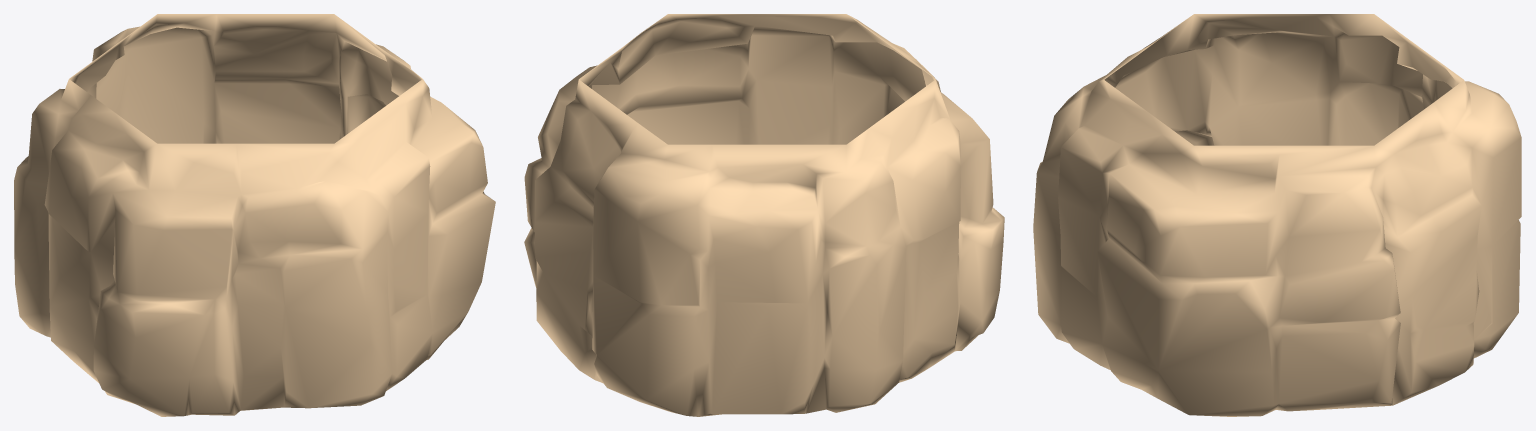
File: mesh_HexTerrain_Top_NoSurface.fbx
3 views of the same model, side by side, from view 1: azimuth 30°, elevation 25°; view 2: azimuth 150°, elevation 25°; view 3: azimuth 270°, elevation 25° (orthographic).
Visible parts, largest first — view 1: HexTerrain_Top_NoSurface_LOD0; view 2: HexTerrain_Top_NoSurface_LOD0; view 3: HexTerrain_Top_NoSurface_LOD0.
Boxes of the visible parts, left/top/right/bottom form: HexTerrain_Top_NoSurface_LOD0: left=14, top=14, right=495, bottom=416; HexTerrain_Top_NoSurface_LOD0: left=524, top=14, right=1004, bottom=416; HexTerrain_Top_NoSurface_LOD0: left=1033, top=14, right=1521, bottom=416.
Size of what is drawn, in the model's own units: 10.05 by 6.43 by 10.97.
